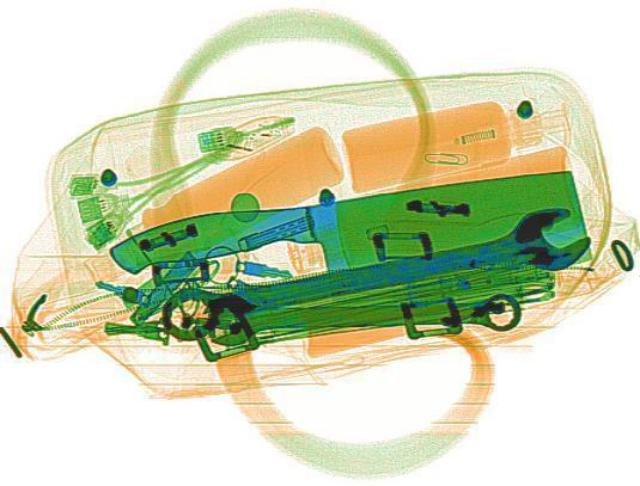Knife: (100, 166, 596, 316)
Wrench: (149, 200, 601, 346), (208, 290, 522, 341)
